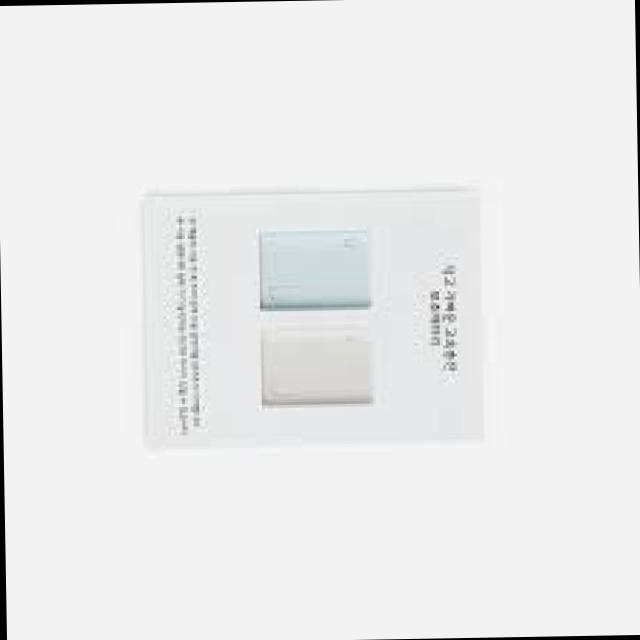power_bank: (252, 225, 372, 314), (260, 328, 374, 408)
